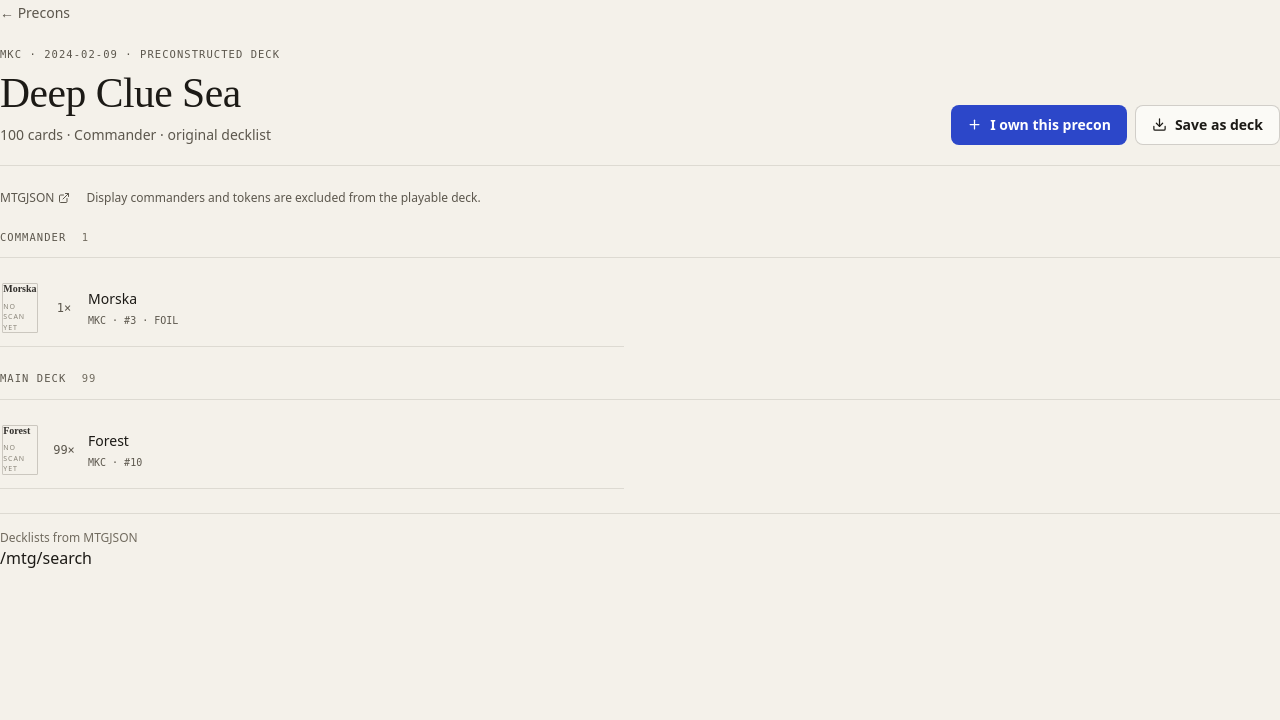
Test case: precon browsing › blocks incomplete printings and leaves the deck unsaved
Click the button "Save as deck": [1207, 124] box [1135,104,1279,144]
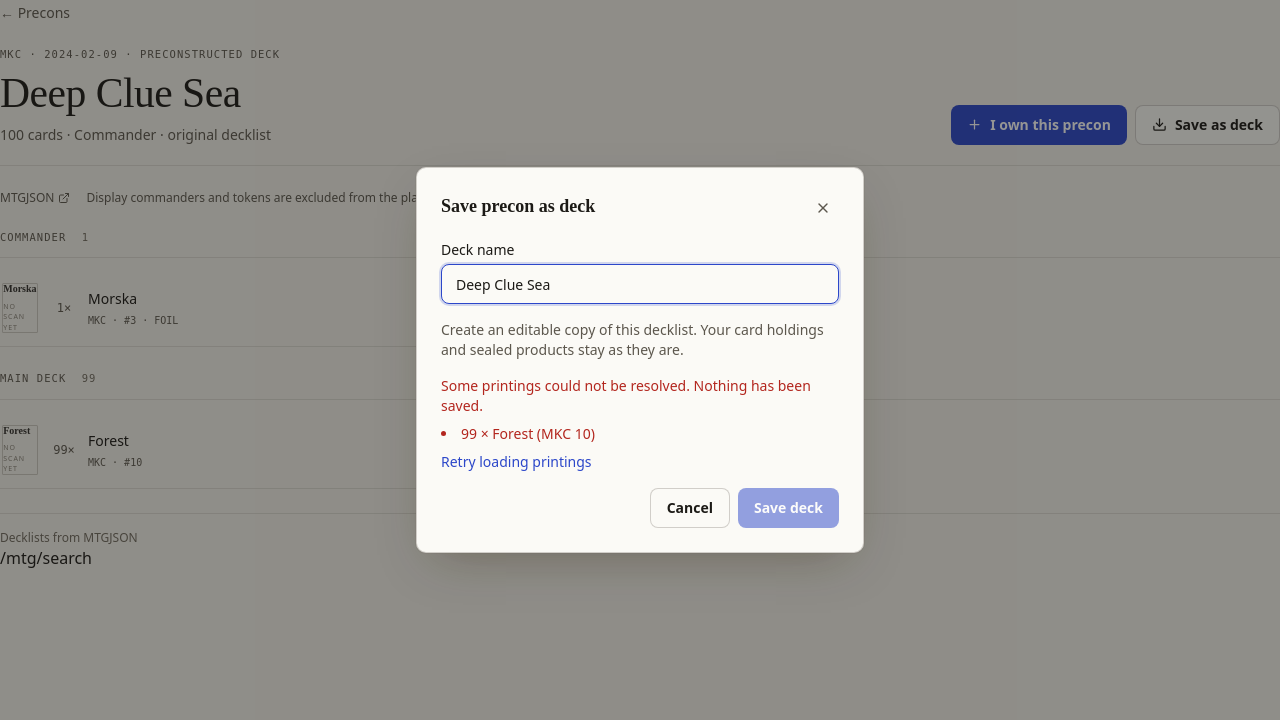
Expected: the message shows "Forest", [492,424,533,443]
Expected: the button "Save deck" is disabled, [738,488,839,528]
